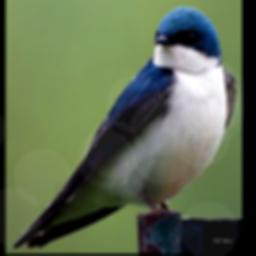Swallow: (11, 4, 237, 252)
